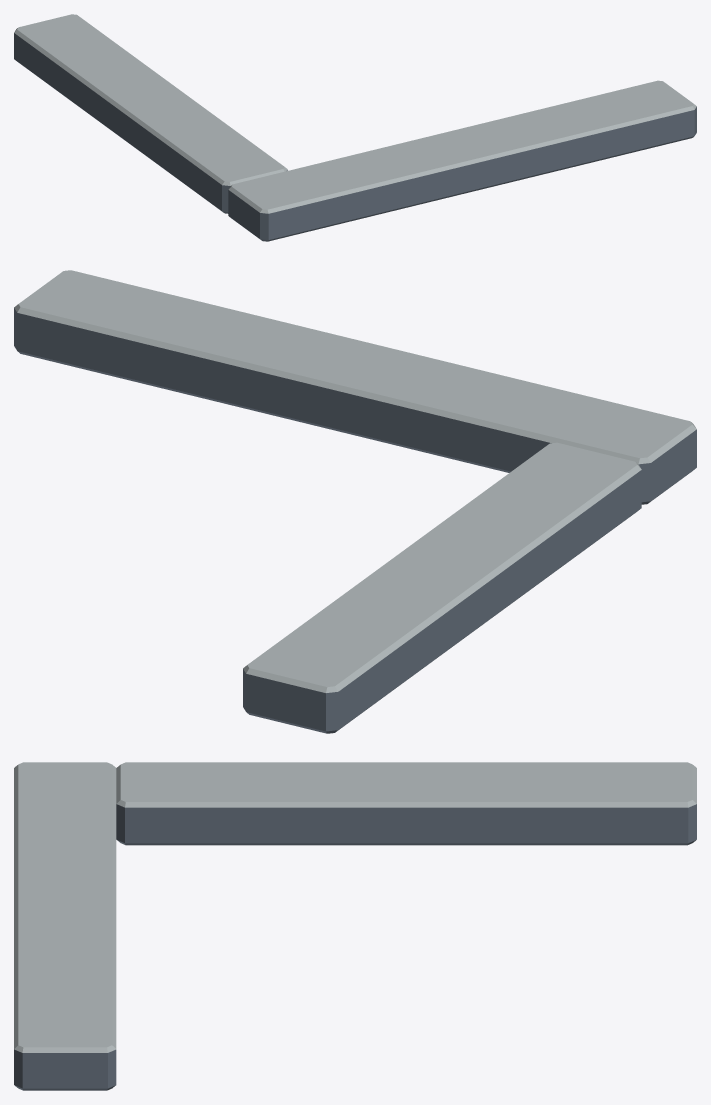
The model's file is floor-border-corner.glb.
3 views of the same model, one above another, from view 1: azimuth 30°, elevation 25°; view 2: azimuth 150°, elevation 25°; view 3: azimuth 270°, elevation 25° (orthographic). The views are drawn at different scales.
Visible parts, largest first — view 1: floor-border-corner__body; view 2: floor-border-corner__body; view 3: floor-border-corner__body.
Boxes of the visible parts, x1,y1,x2,y2 form: floor-border-corner__body: (14, 14, 696, 241); floor-border-corner__body: (14, 270, 696, 733); floor-border-corner__body: (14, 762, 696, 1090).
Bounding box in the file's own units: 2 × 0.14 × 2.
